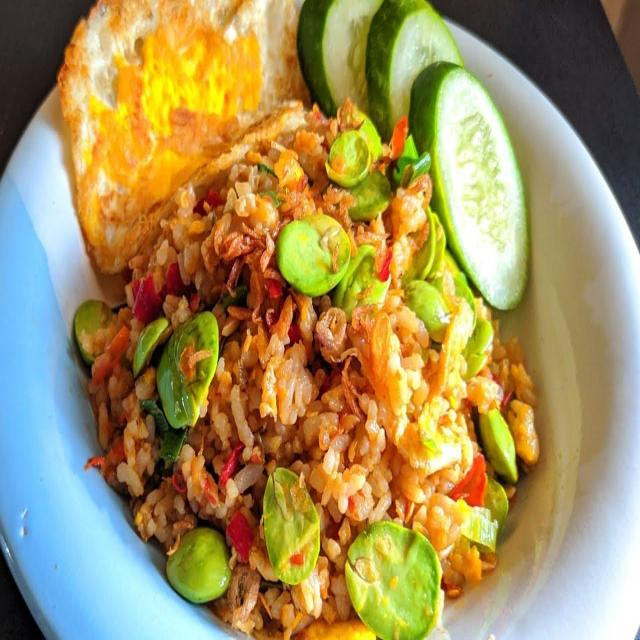Nasi Goreng: (124, 134, 524, 607)
